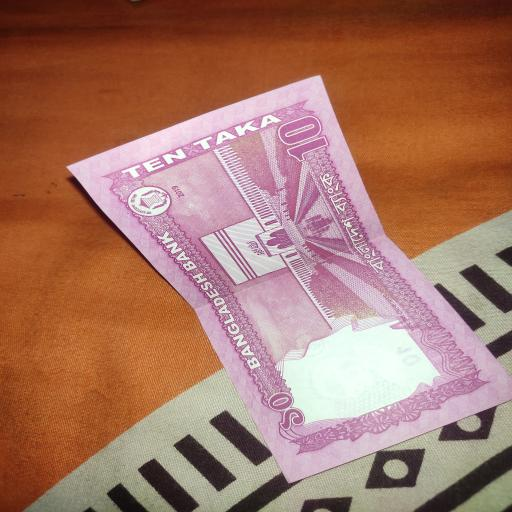10taka: (72, 78, 512, 490)
